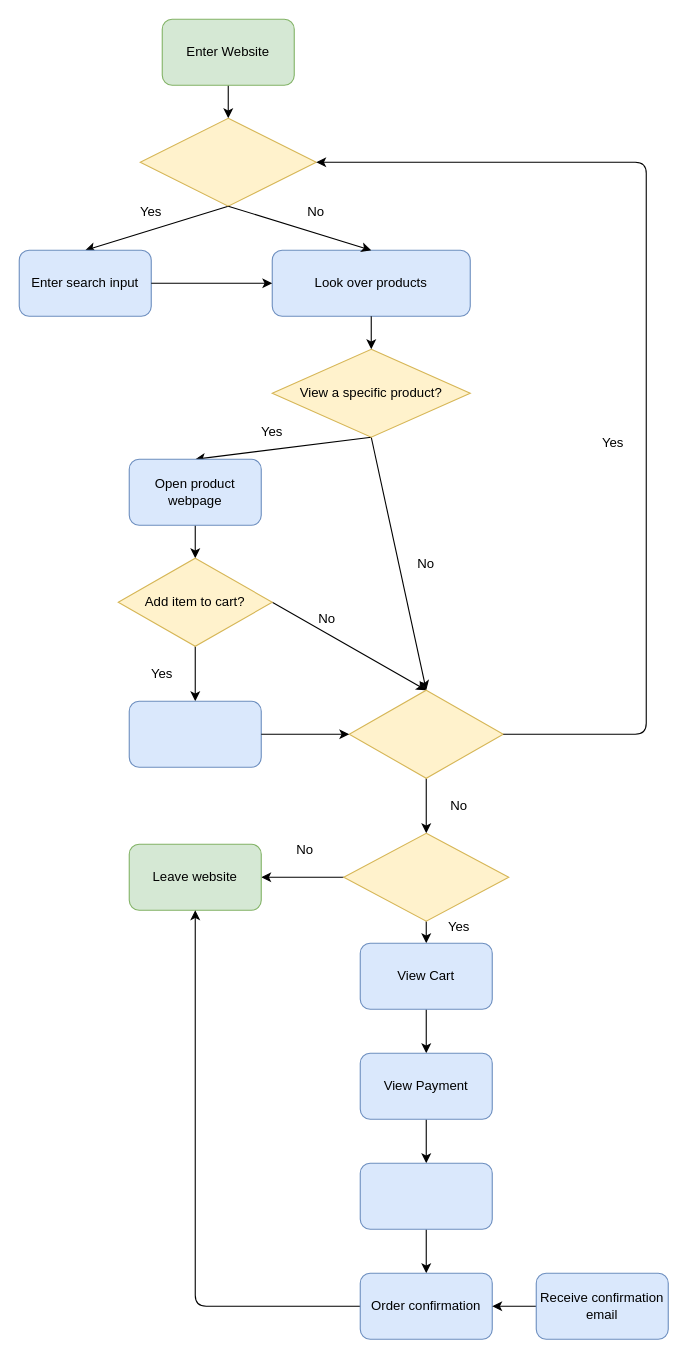
This 688x1359 diagram has some shape labels left out. The shapes that lost their labels are listed below. From the top down, each one's centre as x and y in pixels, then its label:
At point 227,161: "Search for a Product?".
At point 194,733: "Added to cart confirmation".
At point 425,733: "Continue shopping?".
At point 426,876: "Checkout?".
At point 425,1195: "Enter payment information".
